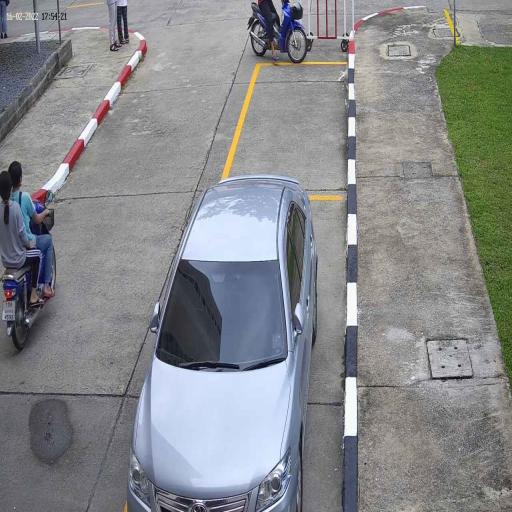car: (126, 173, 318, 512)
motorcycle: (1, 242, 57, 350), (247, 0, 308, 64)
